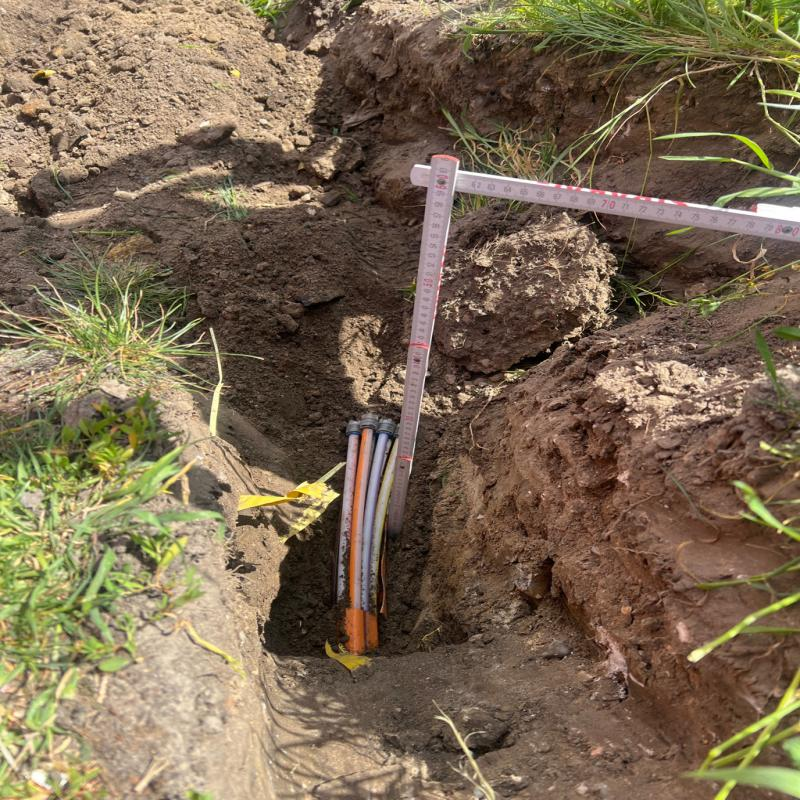Orang-Speednetrohrchen: (337, 414, 401, 655)
